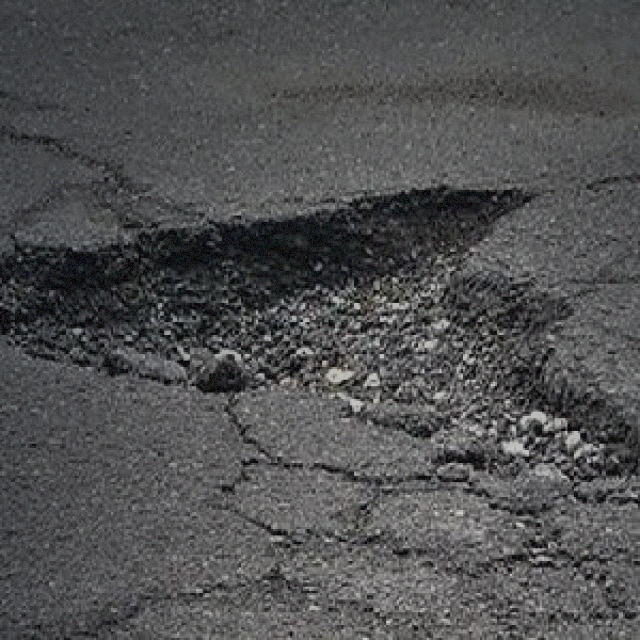pothole: (0, 179, 638, 510)
